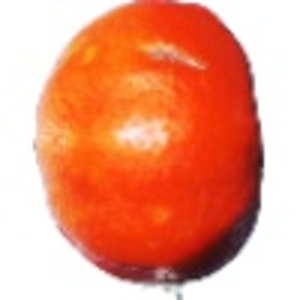tangerina: (32, 2, 265, 300)
